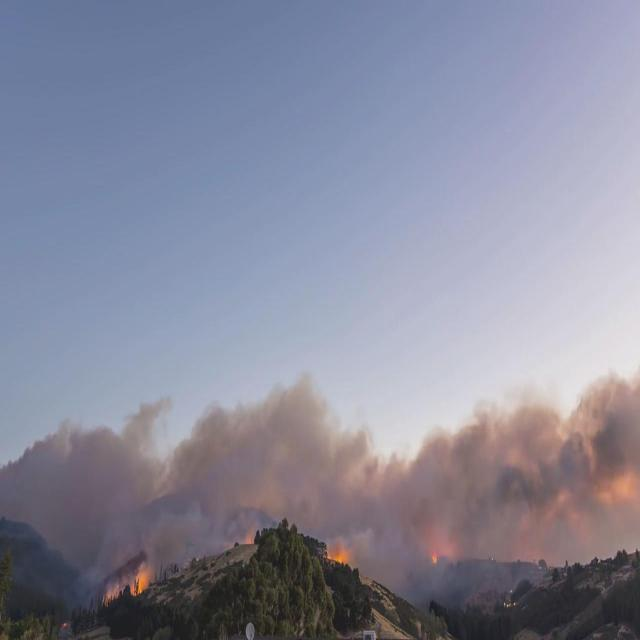smoke: (13, 457, 634, 522)
